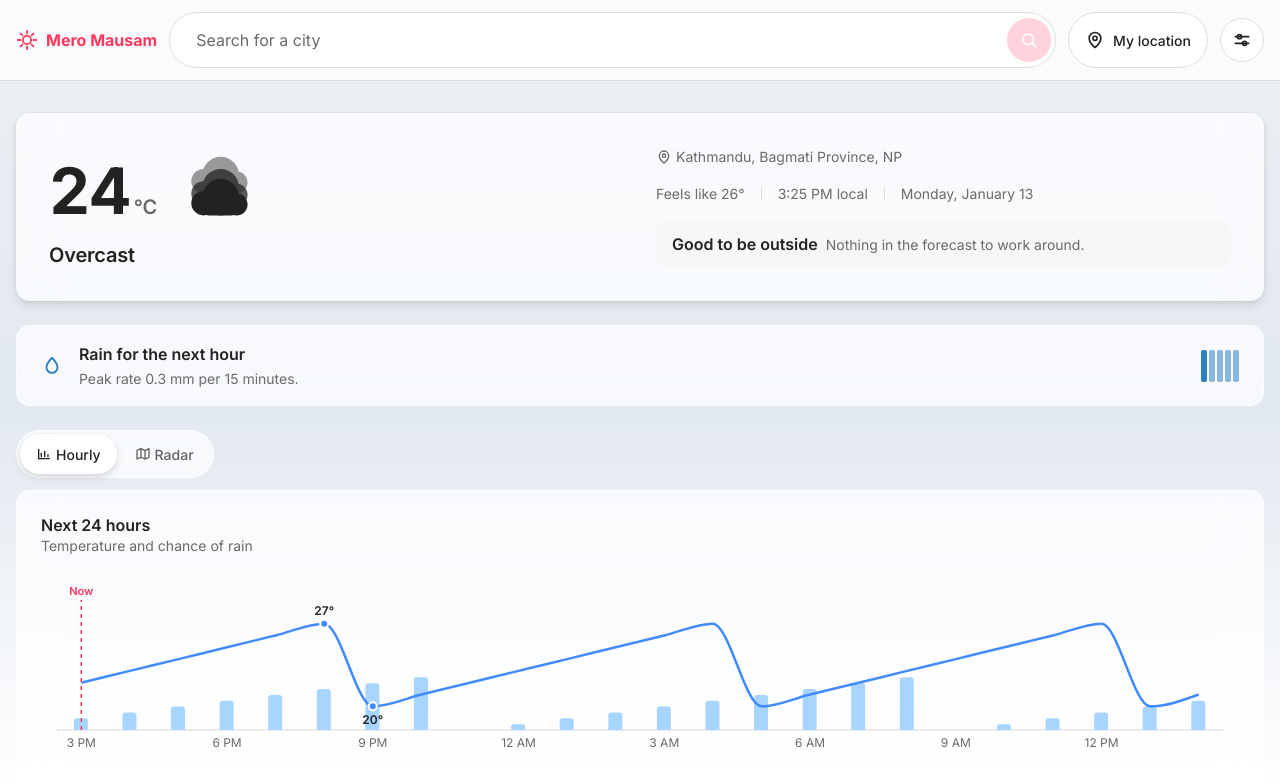
Test: App › searches for a city and loads its weather
Check: the text "24" is shown, box left=49, top=156, right=130, bottom=226
Type "Kathmandu" into the dropdown labelled "Search for a city" at (599, 40), box left=194, top=27, right=1003, bottom=53
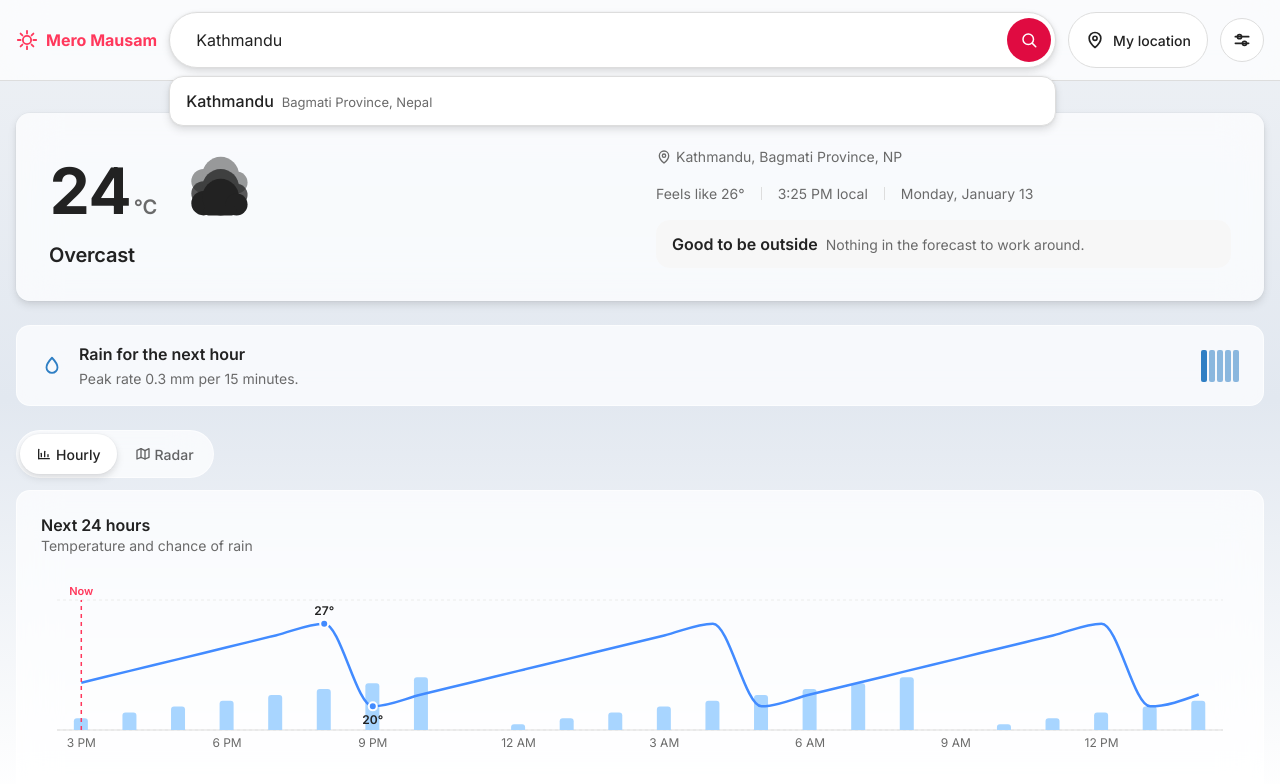
Click the option "Kathmandu Bagmati Province, Nepal" at (230, 101), box left=170, top=77, right=1055, bottom=125
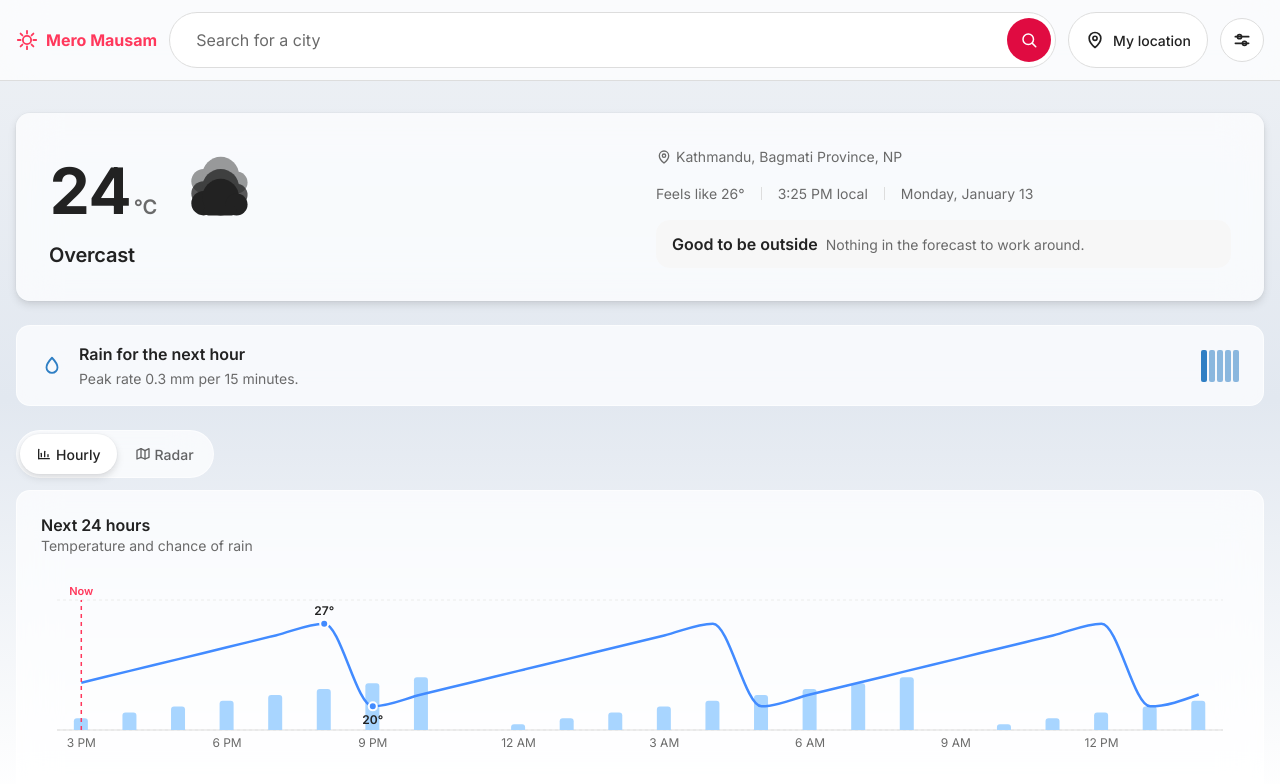
Check: the text "24" is shown, box left=49, top=156, right=130, bottom=226
Check: the list "Kathmandu Bagmati Province, Nepal" is gone
